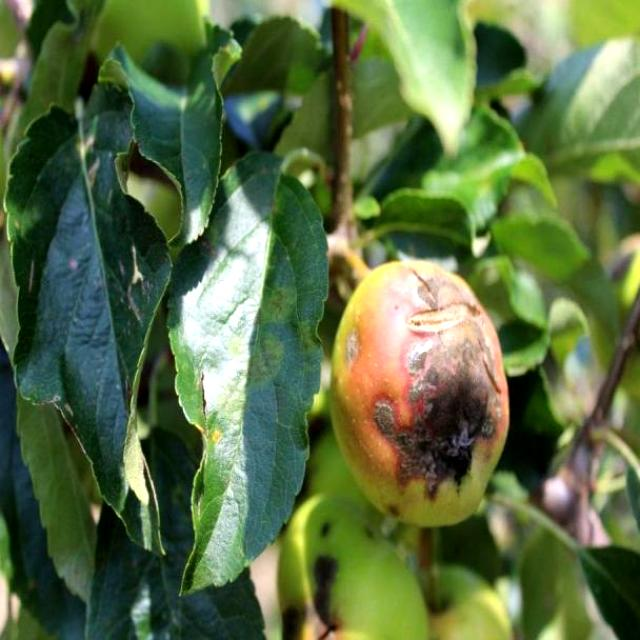SCAB: (324, 262, 518, 560)
